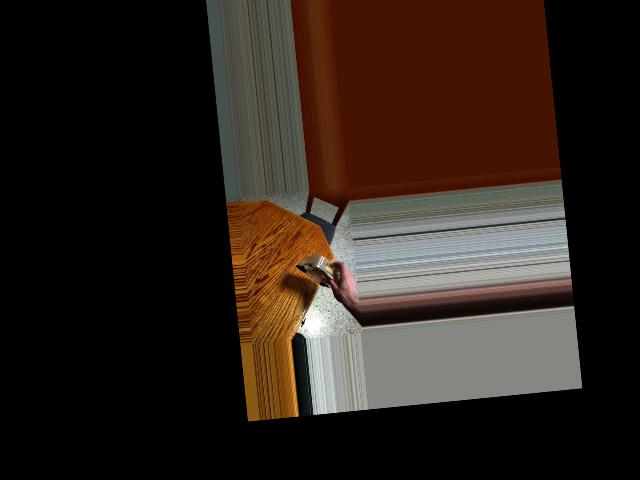cheese: (299, 242, 343, 296)
